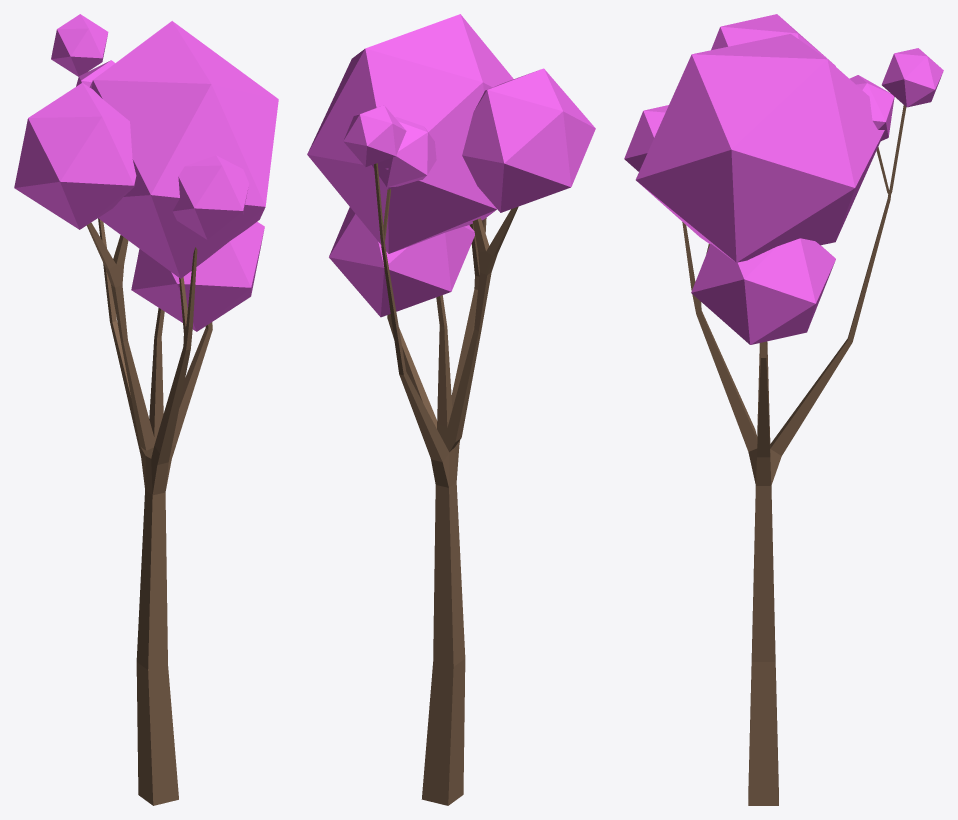
Rendered from Tree 2.fbx.
The picture shows the model from 3 angles, left to right: view 1: azimuth 30°, elevation 25°; view 2: azimuth 150°, elevation 25°; view 3: azimuth 270°, elevation 25°; orthographic projection. The views are drawn at different scales.
Visible parts, largest first — view 1: Street Tree 2; view 2: Street Tree 2; view 3: Street Tree 2.
Part boxes in pixels (<box>): Street Tree 2: <box>14,14,278,805</box>; Street Tree 2: <box>307,14,595,805</box>; Street Tree 2: <box>624,14,943,805</box>.
Bounding box in the file's own units: 187 × 553 × 210.
Materials: 1 (1 with a texture image).
